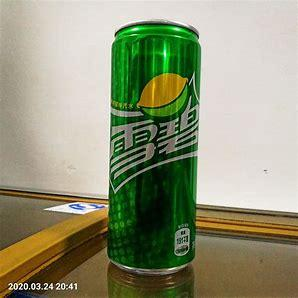metal: (108, 22, 201, 274)
